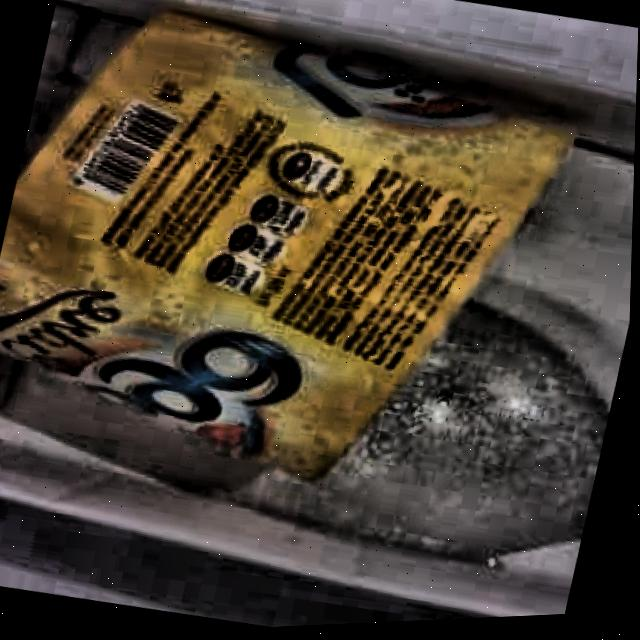plastic: (0, 34, 639, 630)
